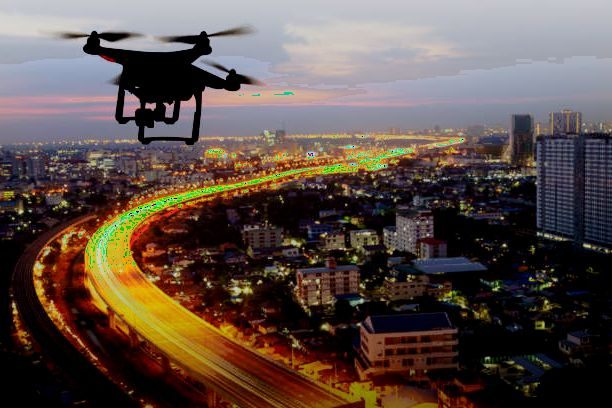Drone: (58, 23, 266, 149)
